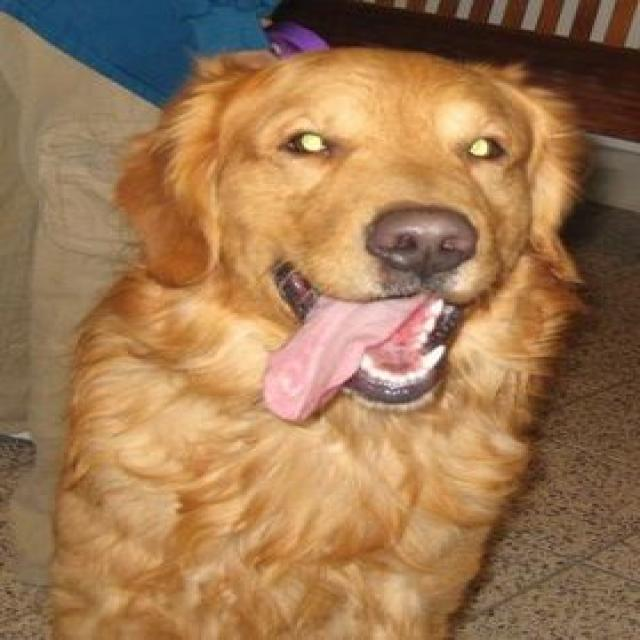Dogs: (43, 44, 592, 638)
